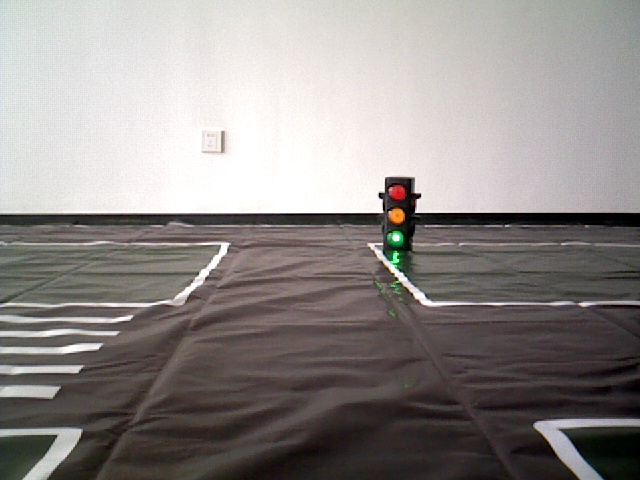green: (386, 181, 411, 244)
